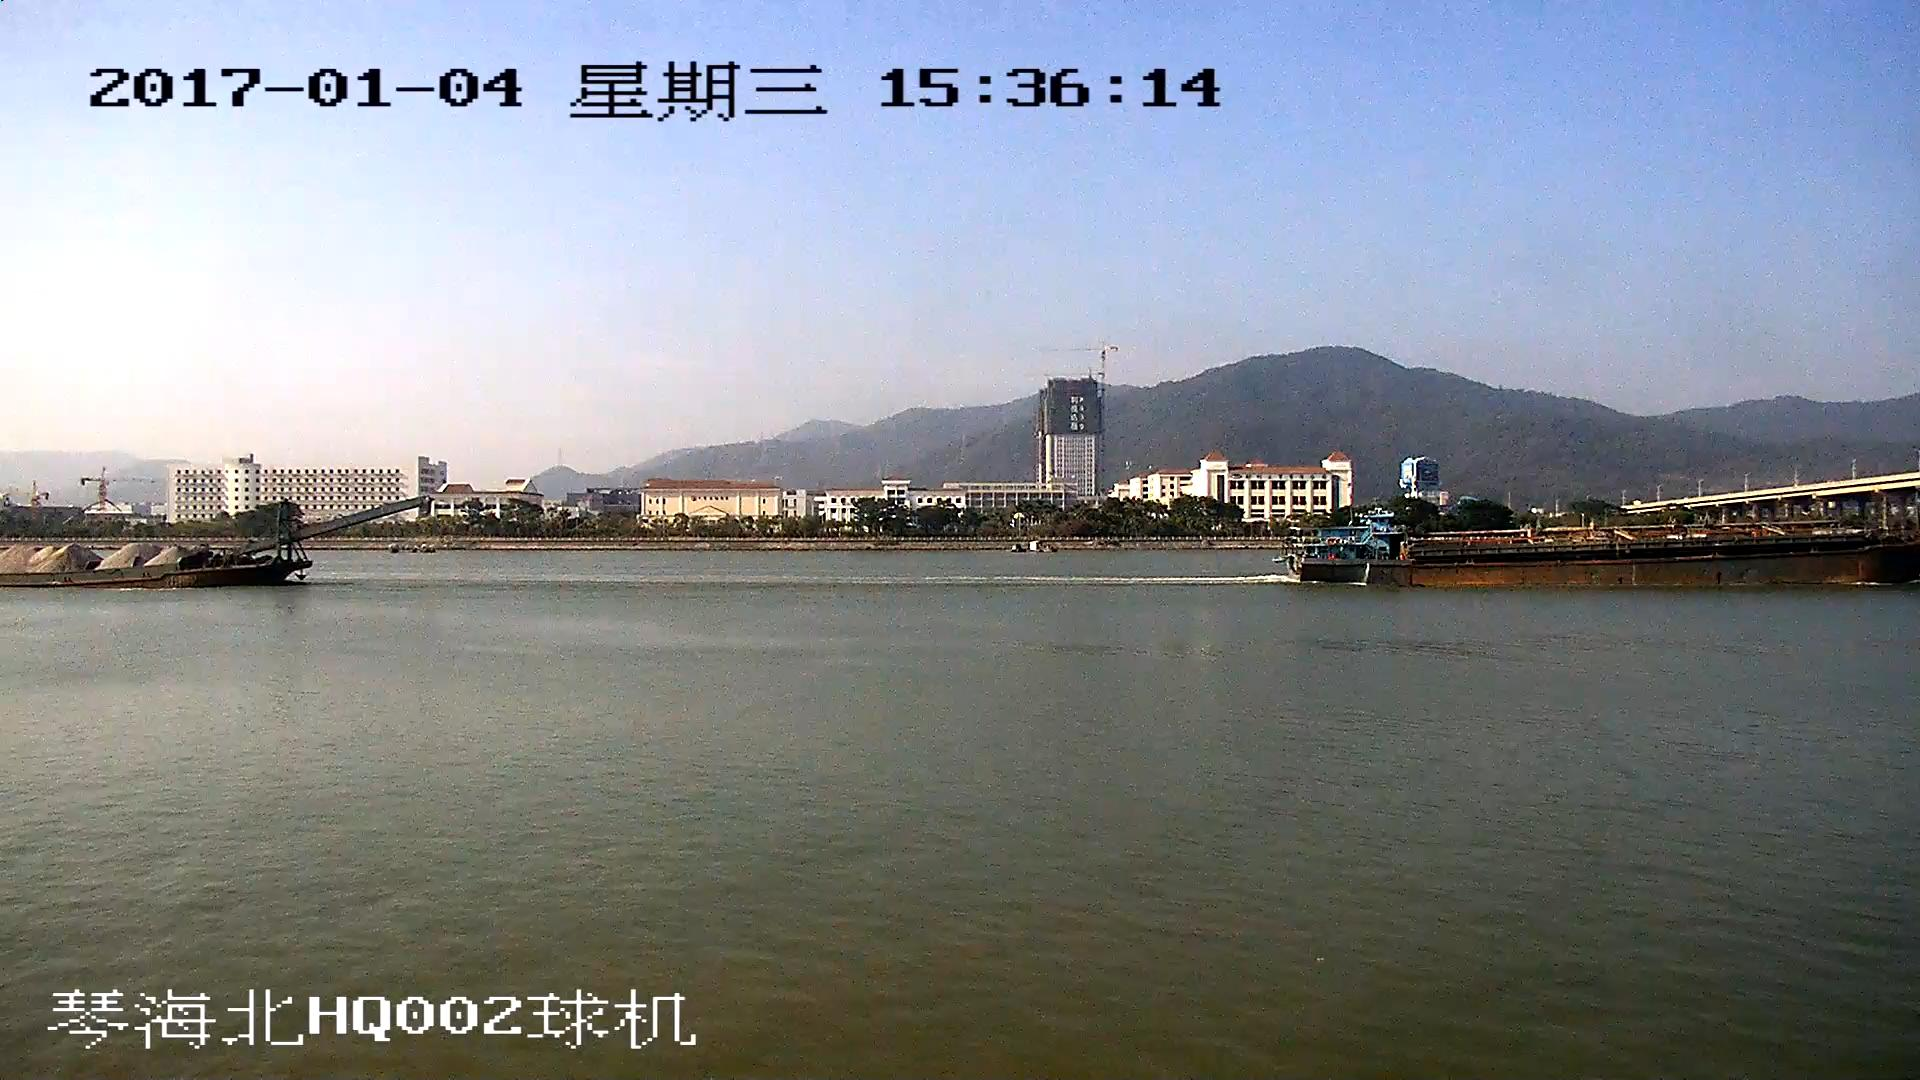bulk cargo carrier: (1284, 516, 1920, 594)
ore carrier: (1, 500, 422, 585)
